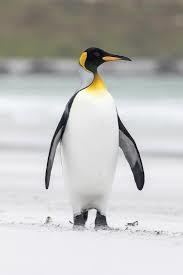king: (40, 37, 162, 235)
